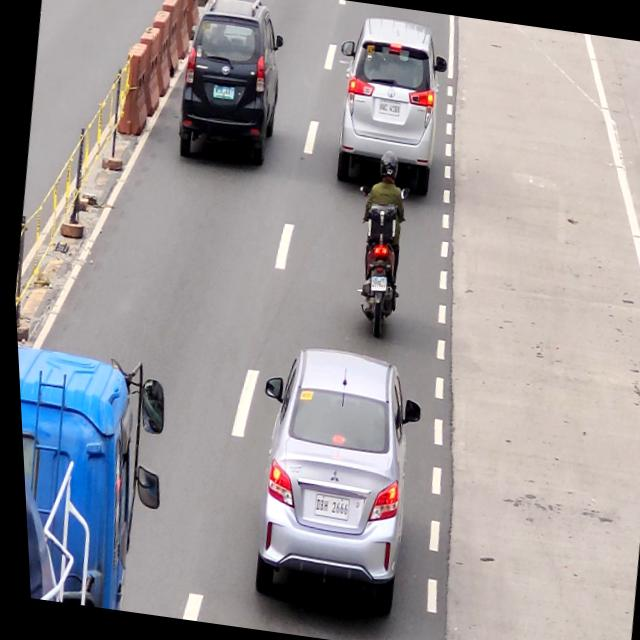Car: (234, 342, 428, 618), (14, 344, 156, 611), (175, 0, 292, 170), (330, 13, 446, 177)
License-Plate: (306, 492, 349, 522), (209, 82, 237, 104), (374, 98, 402, 118), (365, 276, 385, 292)
Motorcycle: (340, 150, 417, 345)
